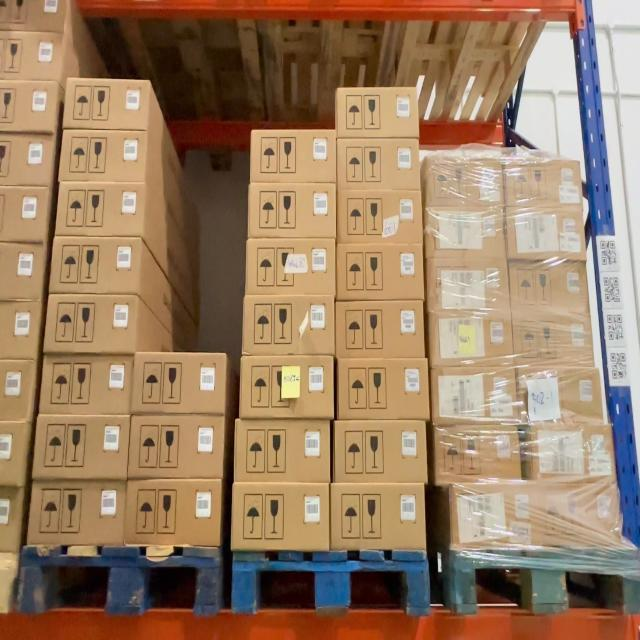box: (454, 486, 624, 543), (332, 483, 426, 550), (126, 481, 222, 545), (233, 483, 327, 548), (40, 358, 132, 420), (29, 484, 122, 544), (335, 423, 427, 483), (236, 420, 328, 480), (241, 356, 334, 414), (134, 353, 226, 409), (34, 420, 130, 473), (132, 421, 223, 476), (245, 298, 334, 354), (46, 298, 138, 352), (340, 359, 426, 416), (338, 189, 422, 246), (245, 241, 337, 292), (436, 424, 518, 480), (248, 185, 336, 237), (340, 244, 424, 298), (58, 184, 142, 237), (337, 304, 422, 356), (430, 315, 513, 368), (532, 426, 614, 479), (432, 369, 517, 420), (52, 239, 138, 289), (252, 128, 332, 181), (63, 131, 144, 182), (429, 258, 506, 310), (66, 80, 152, 126), (509, 205, 582, 258), (516, 314, 591, 365), (519, 370, 598, 418), (336, 90, 417, 136), (338, 140, 417, 187), (512, 261, 586, 309), (507, 159, 580, 207), (428, 209, 501, 255), (428, 159, 502, 203)
